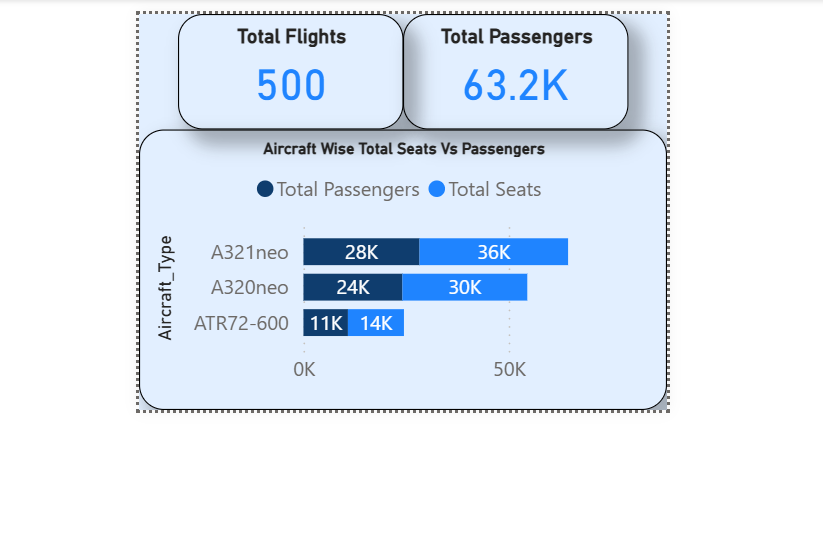

What the dashboard file says about the page in this screenshot:
{"tool":"powerbi","page":{"name":"Tooltip","canvas":[320,240],"ordinal":2},"visuals":[{"type":"barChart","title":"Aircraft Wise Total Seats Vs Passengers","fields":{"Category":["IndiGo_Flight_Cleaned_Data.Aircraft_Type"],"Y":["Measures Table.Total Passengers","Measures Table.Total Seats"]},"box":[0,70,320,170],"z":0},{"type":"card","title":"Total Flights","fields":{"Values":["Measures Table.Total Flight"]},"box":[23.3,0,136.7,70],"z":1000},{"type":"card","title":"Total Passengers","fields":{"Values":["Measures Table.Total Passengers"]},"box":[160,0,136.7,70],"z":2000}]}

Visuals, with their boxes on the page's 320x240 design canvas (x1, y1, x2, y2). These are canvas units, not pixel positions in the 823x549 screenshot, which may show the page scaled, cropped or inside an application window:
"Aircraft Wise Total Seats Vs Passengers" barChart: [0,70,320,240]
"Total Flights" card: [23,0,160,70]
"Total Passengers" card: [160,0,297,70]
